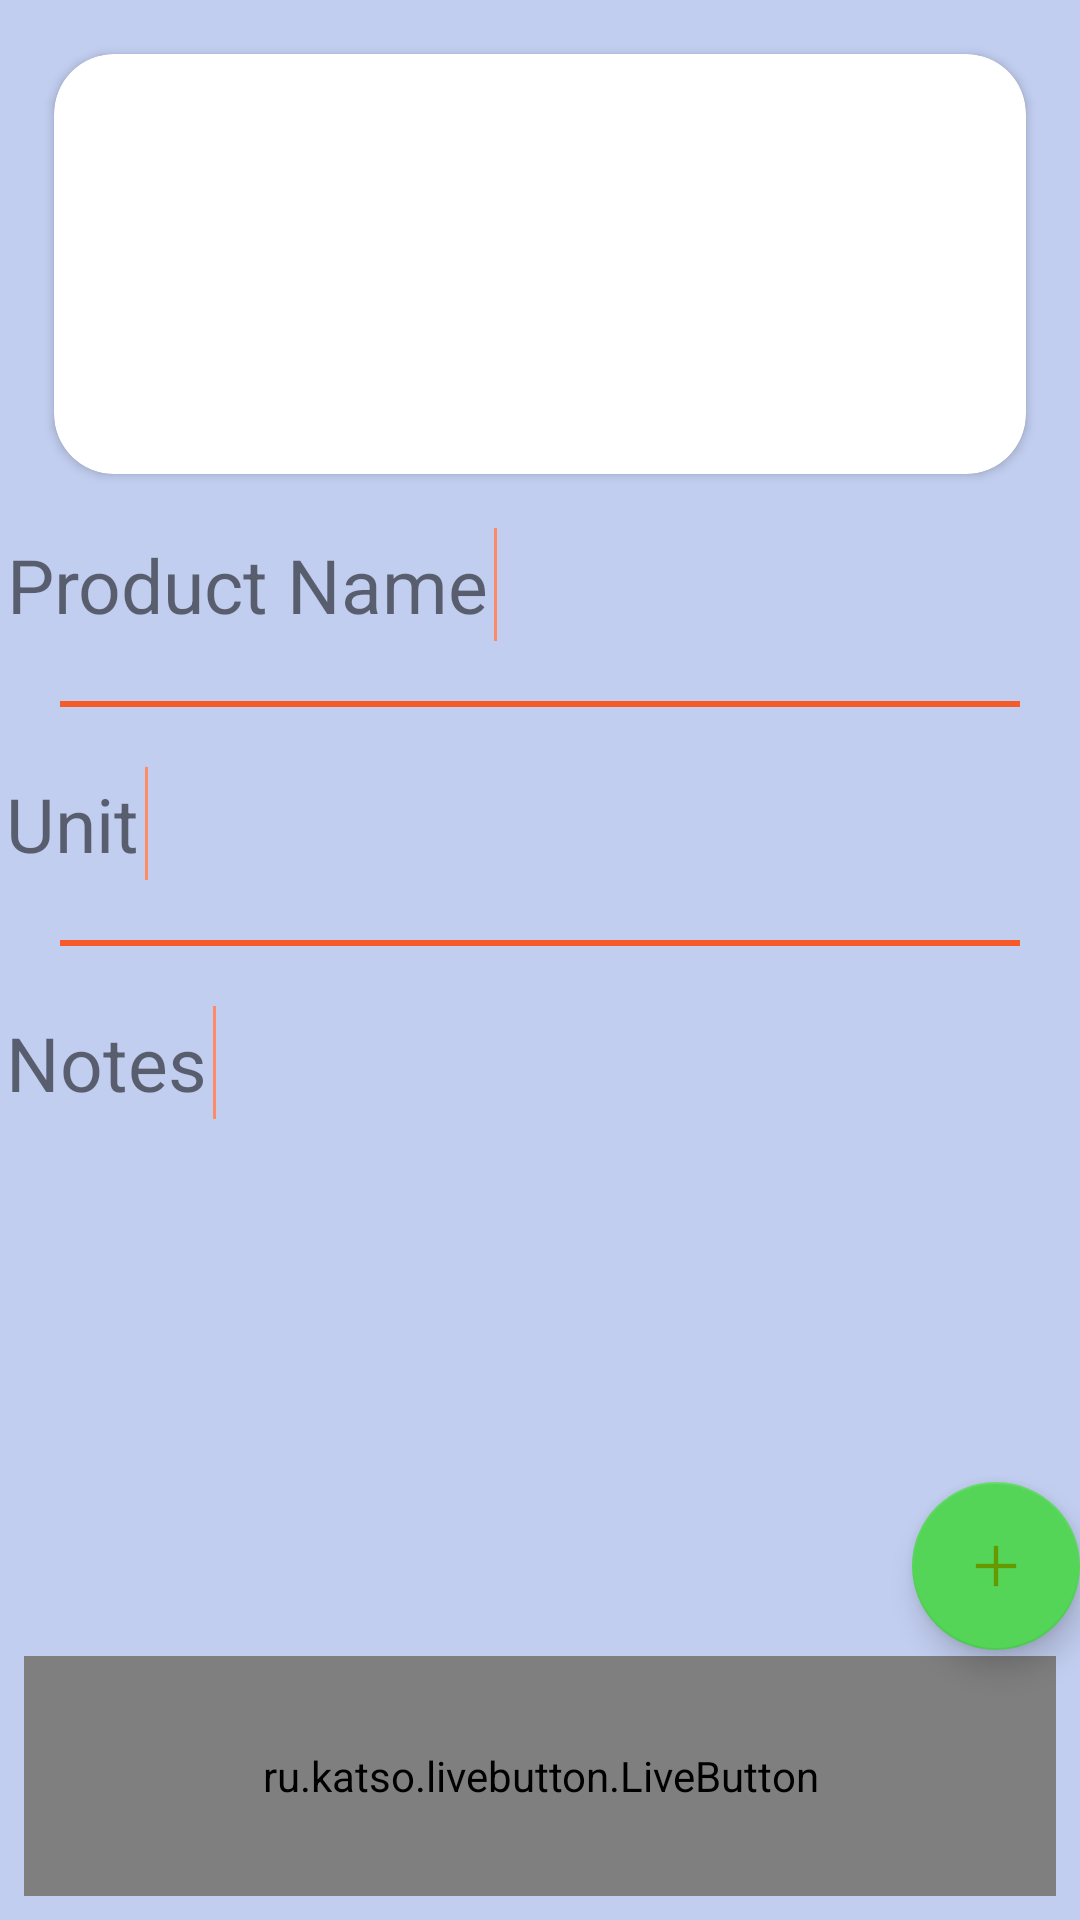

Icon bounding boxes for this 1080*1920 phone screenshot, format (x1, y1, x2, y2):
add: (912, 1482, 1080, 1650)
